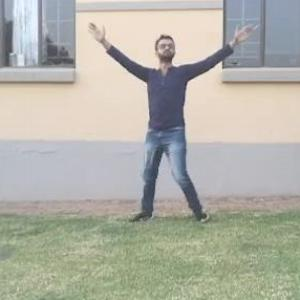takeoff: (68, 19, 244, 245)
